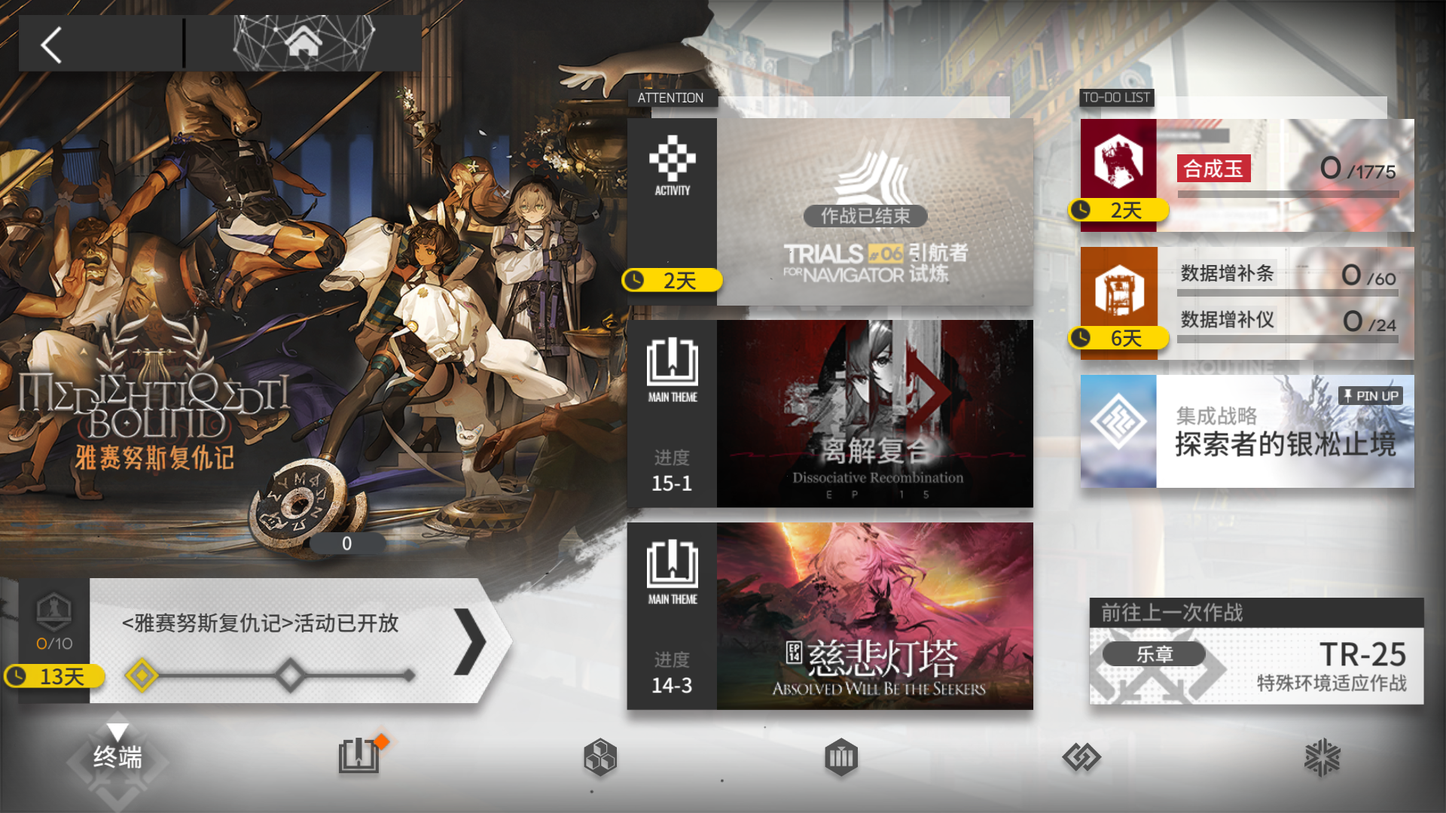Resource_Collection_Button: (532, 707, 703, 810)
Return_Button: (14, 8, 160, 70)
